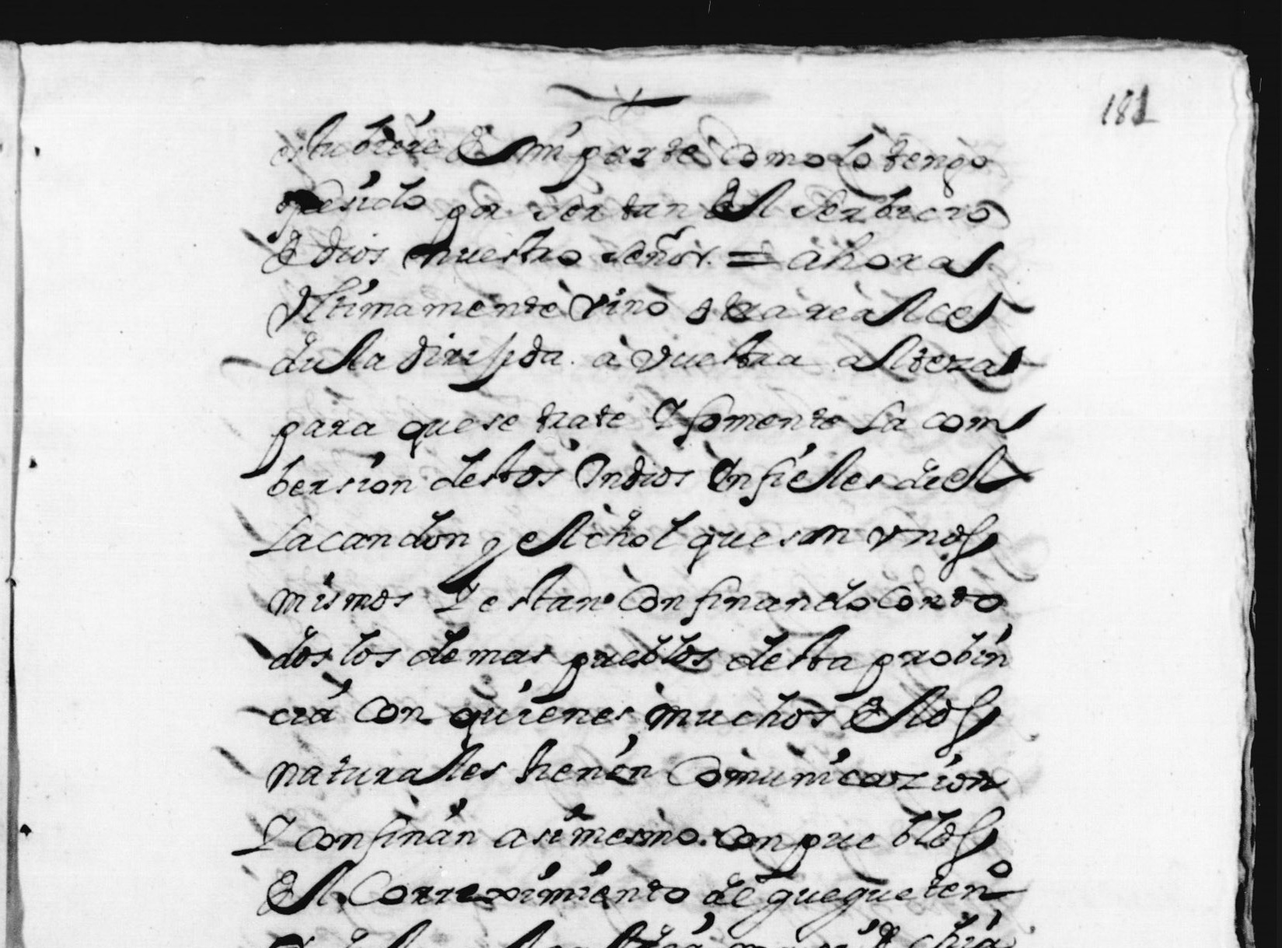lacandon: (250, 509, 469, 557)
